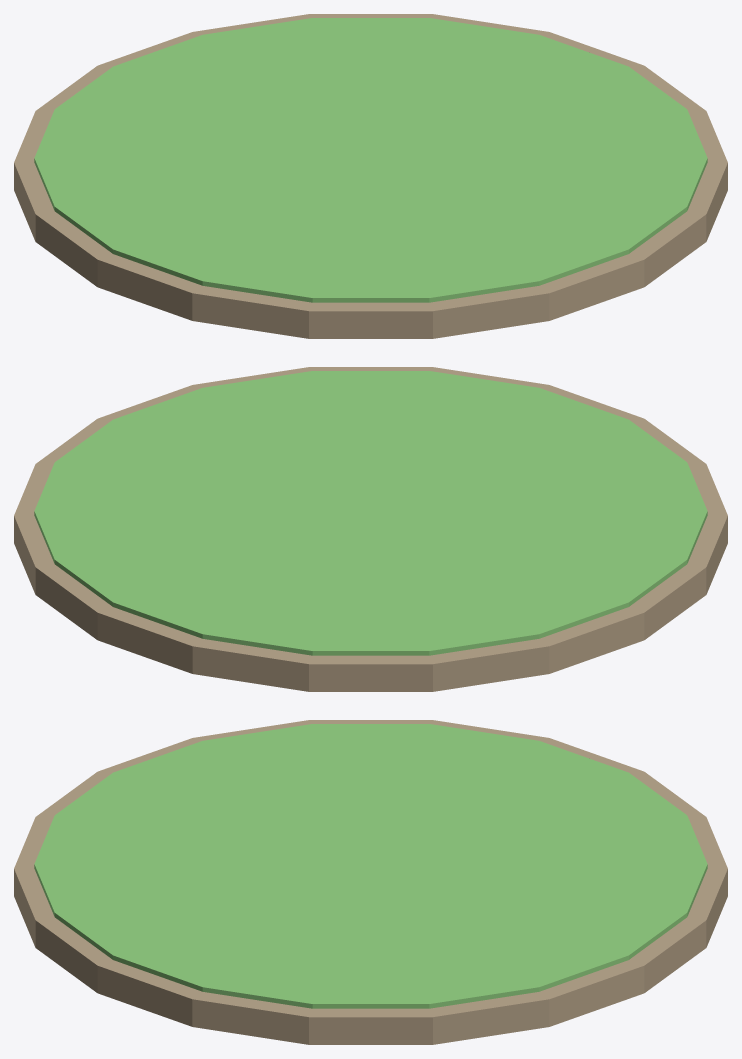
The model's file is RockClimbing_Ledge.fbx.
3 views of the same model, one above another, from view 1: azimuth 30°, elevation 25°; view 2: azimuth 150°, elevation 25°; view 3: azimuth 270°, elevation 25° (orthographic).
Visible parts, largest first — view 1: Ledge; view 2: Ledge; view 3: Ledge.
Part boxes in pixels (x1,y1,x2,y2): Ledge: [14, 14, 727, 338]; Ledge: [14, 367, 727, 691]; Ledge: [14, 720, 727, 1044].
Size of the model in its own units: 13.79 by 0.7 by 14.
